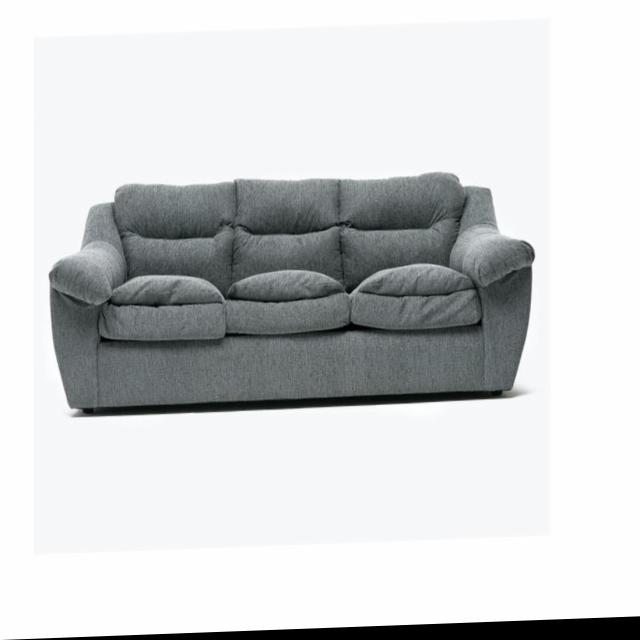Sofa: (51, 171, 533, 417)
